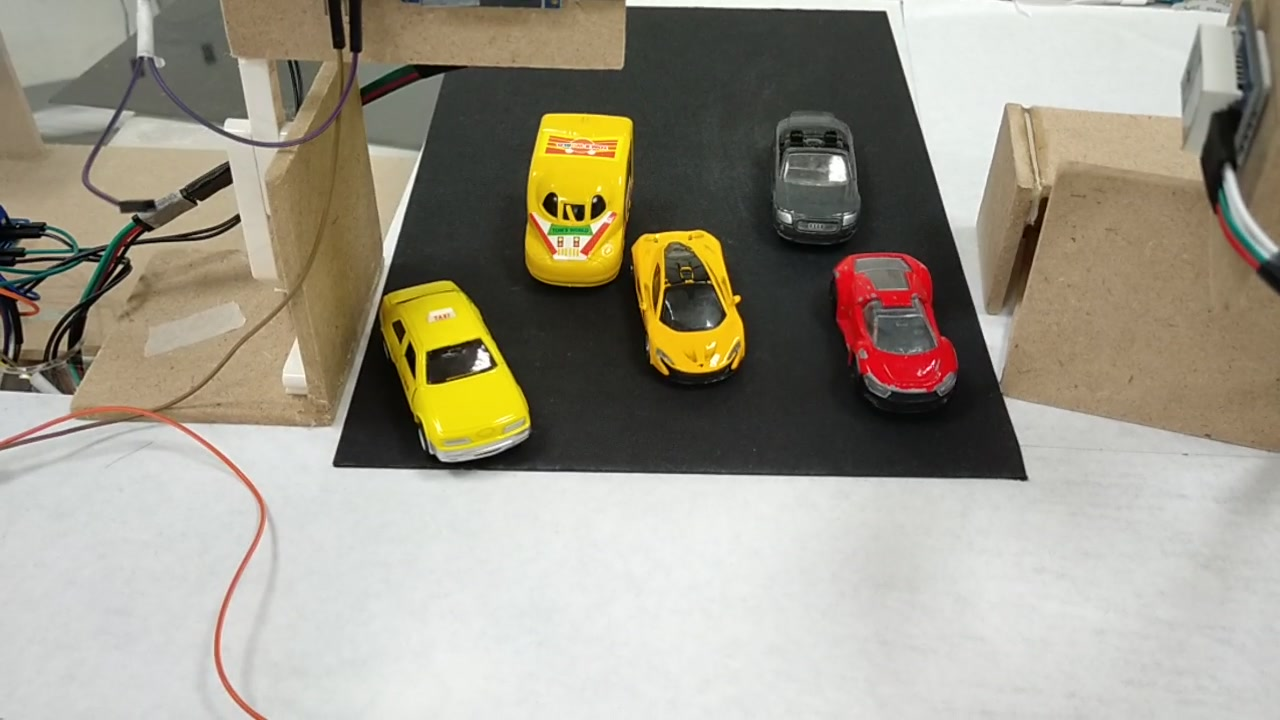car: (373, 288, 530, 470), (828, 257, 956, 403), (629, 229, 748, 386), (770, 108, 858, 243)
